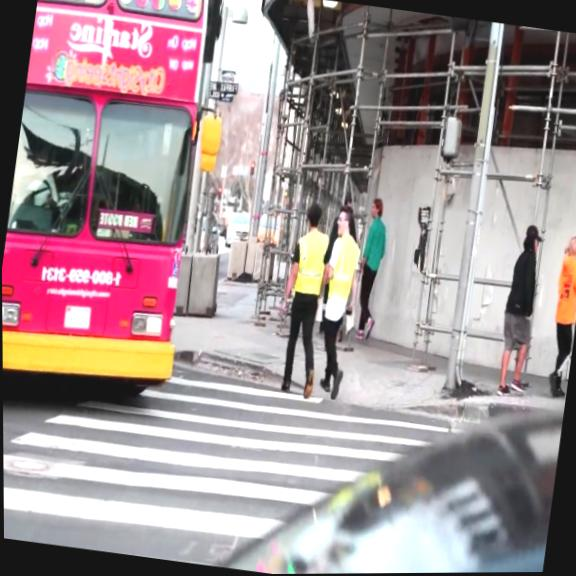safety_vest: (290, 223, 331, 298), (325, 233, 363, 307)
